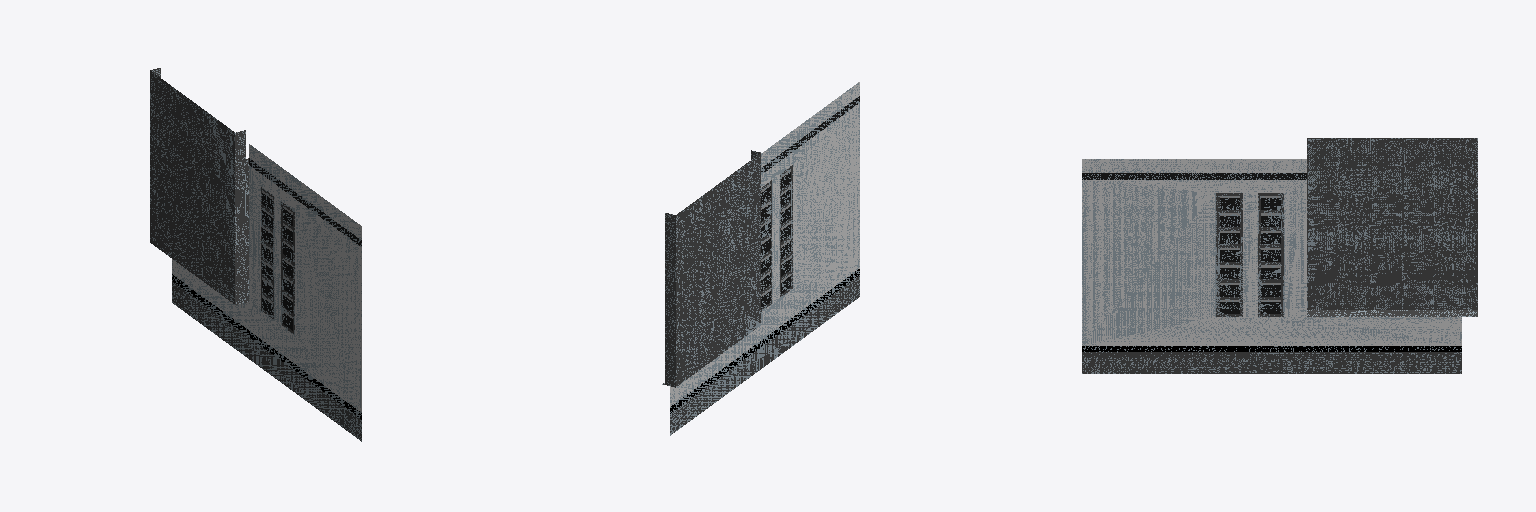
Rendered from budova2.obj.
3 renders of one model, left to right at view 1: azimuth 30°, elevation 25°; view 2: azimuth 150°, elevation 25°; view 3: azimuth 270°, elevation 25°, orthographic.
Parts seen in each view (by area): view 1: Mesh1 Model; view 2: Mesh1 Model; view 3: Mesh1 Model.
Boxes of the visible parts, x1,y1,x2,y2 form: Mesh1 Model: [150, 68, 361, 441]; Mesh1 Model: [662, 82, 859, 435]; Mesh1 Model: [1082, 138, 1477, 373].
Size of the model in its own units: 1 by 16 by 25.